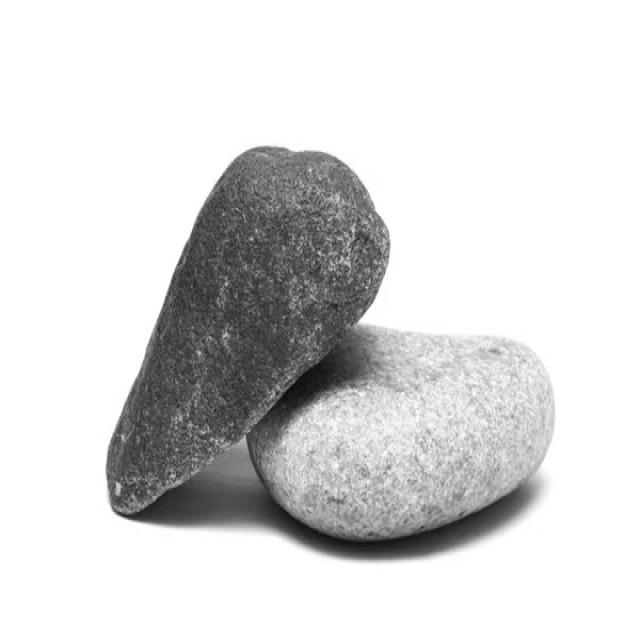Stone: (107, 148, 390, 514), (247, 324, 556, 542)
